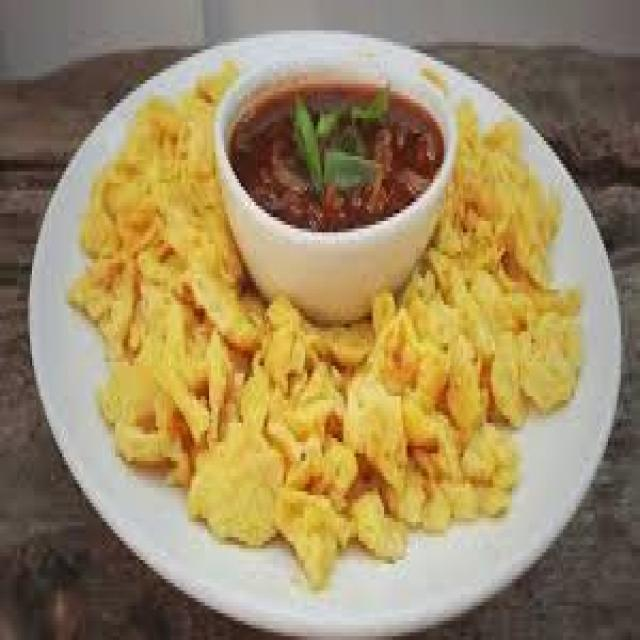telur_dadar: (85, 71, 569, 556)
